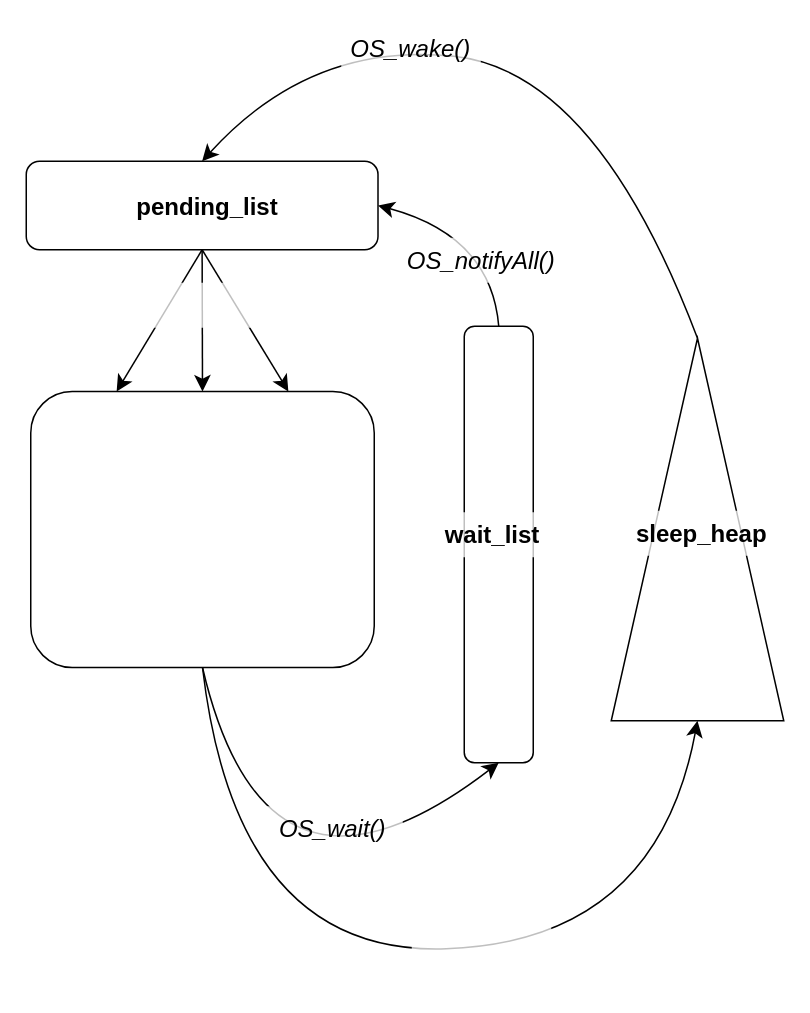
This 810x1013 diagram has some shape labels left out. The centre of each missing label's shape, as x and y in pixels:
"OS_sleep()" goes at point 480,948.
"Priority Array and Round Robins" goes at point 201,529.
"sortPending()" goes at point 188,304.
